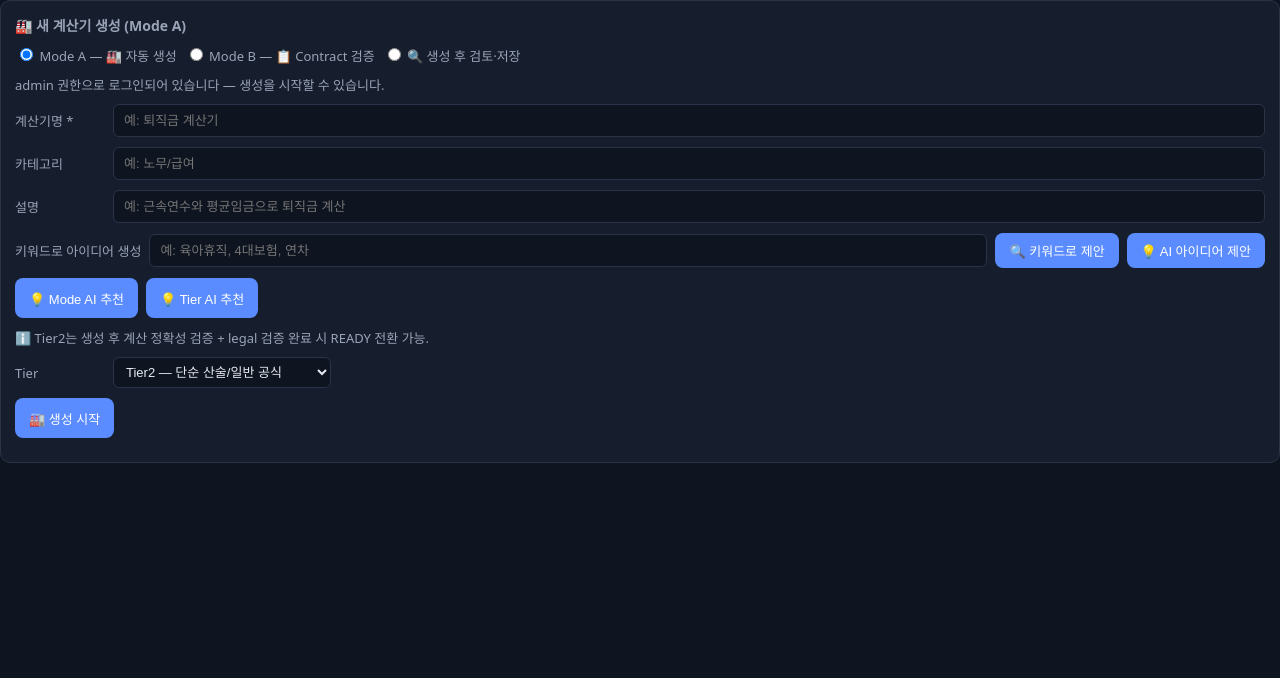
Test case: App Factory 기본 정보 AI 보조 › Mode A에서 받은 Tier2-B 추천과 기본 정보가 Mode B로 이어진다
In the field labelled "계산기명 *": (689, 120) [113,104,1265,137], type "전역일 계산기"
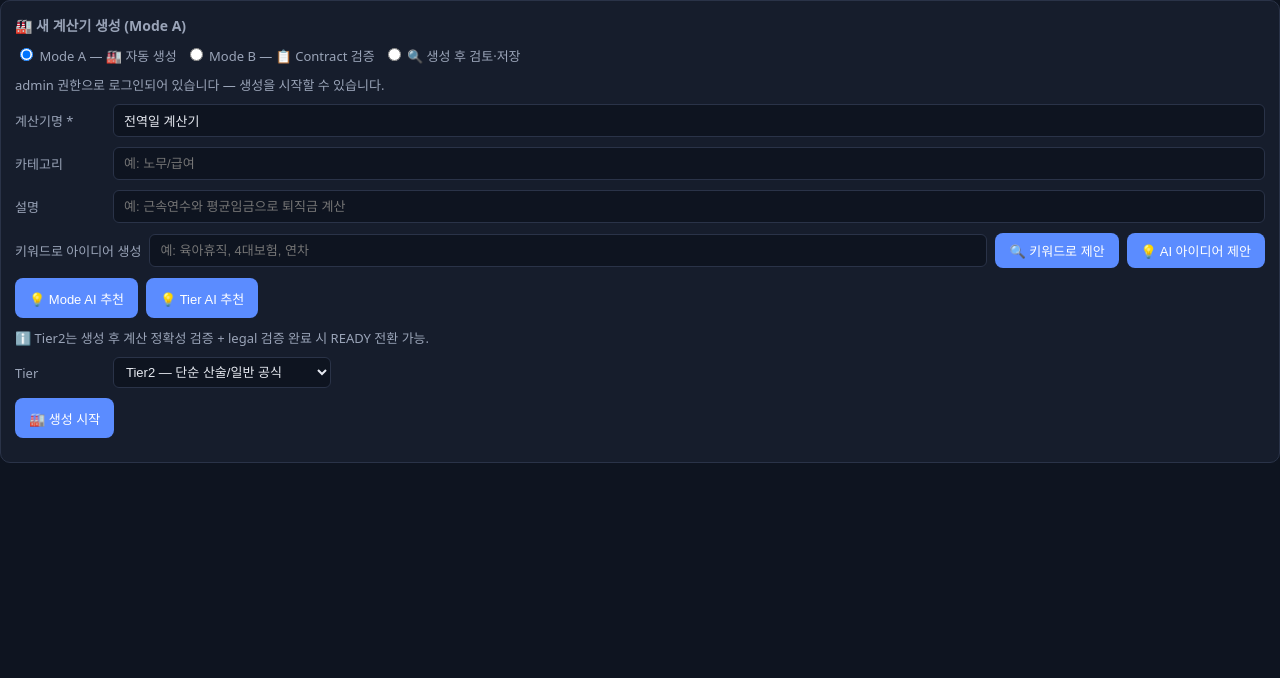
Click the button "💡 Tier AI 추천": (202, 298) [146,278,258,318]
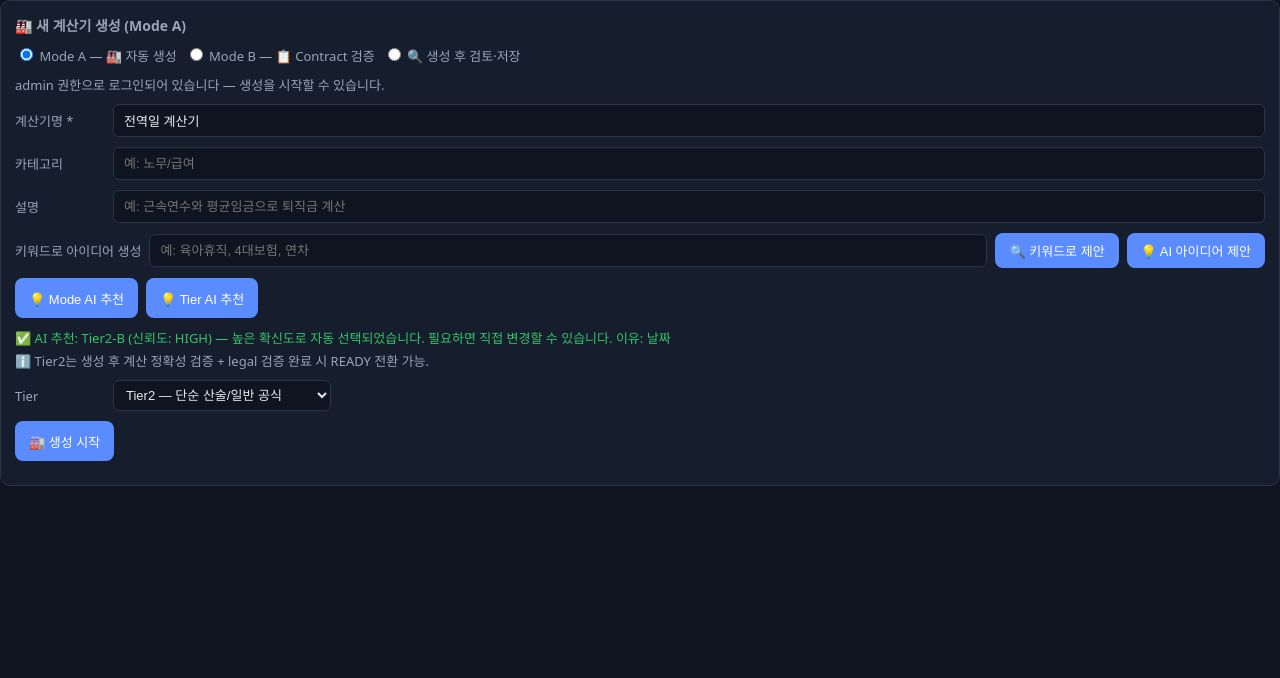
Result: the text "높은 확신도로 자동 선택되었습니다" is shown at [15,329,612,347]
Click the radio button labelled "Mode B — 📋 Contract 검증": (196, 54) [190,48,203,61]
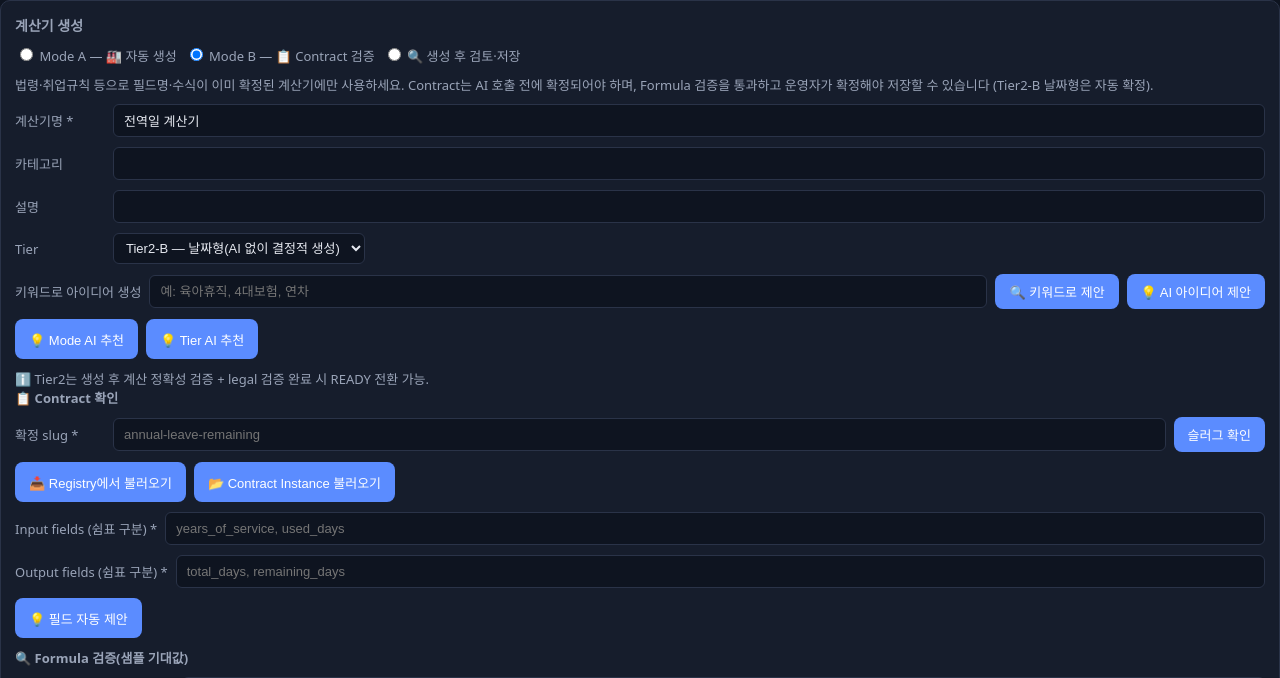
Expected: the field labelled "계산기명 *" holds "전역일 계산기", [113,104,1265,137]
Result: the dropdown labelled "Tier" shows "Tier2-B — 날짜형(AI 없이 결정적 생성)" at [113,233,365,264]
